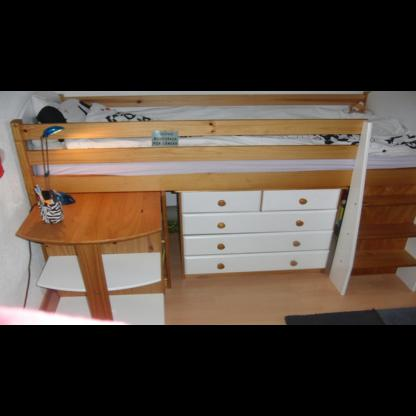I-E: (152, 131, 178, 146)
